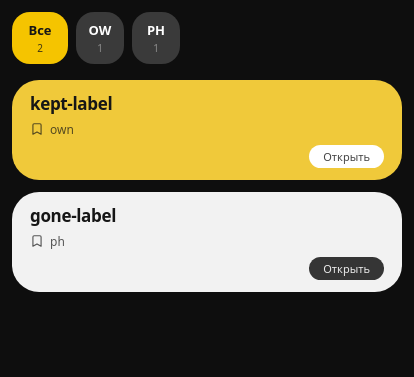
related cards come from loaded shelves and open that card
Click the button with class "idea-row" showing "kept-label" at point(71, 104), box [30,94,384,114]
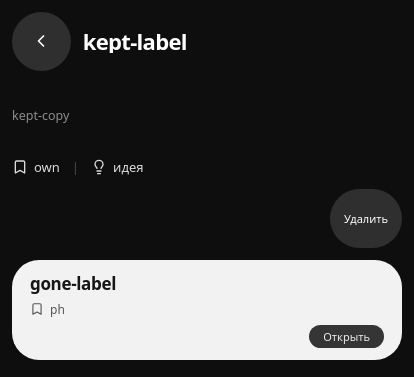
Expected: the element with class "idea-related" is shown, [12,260,402,360]
Expected: the element with class "idea-related" does not show "kept-label"
Click the button with class "idea-row" at point(73, 283), box [30,274,384,294]
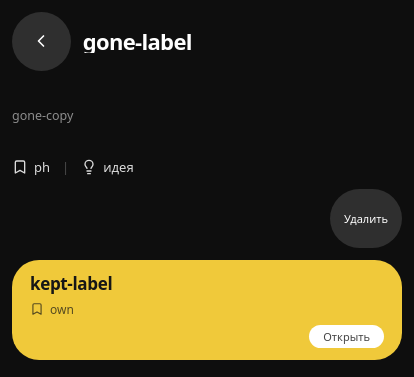
Expected: the text with class "idea-card-label" reads "gone-label", [83,26,192,56]
